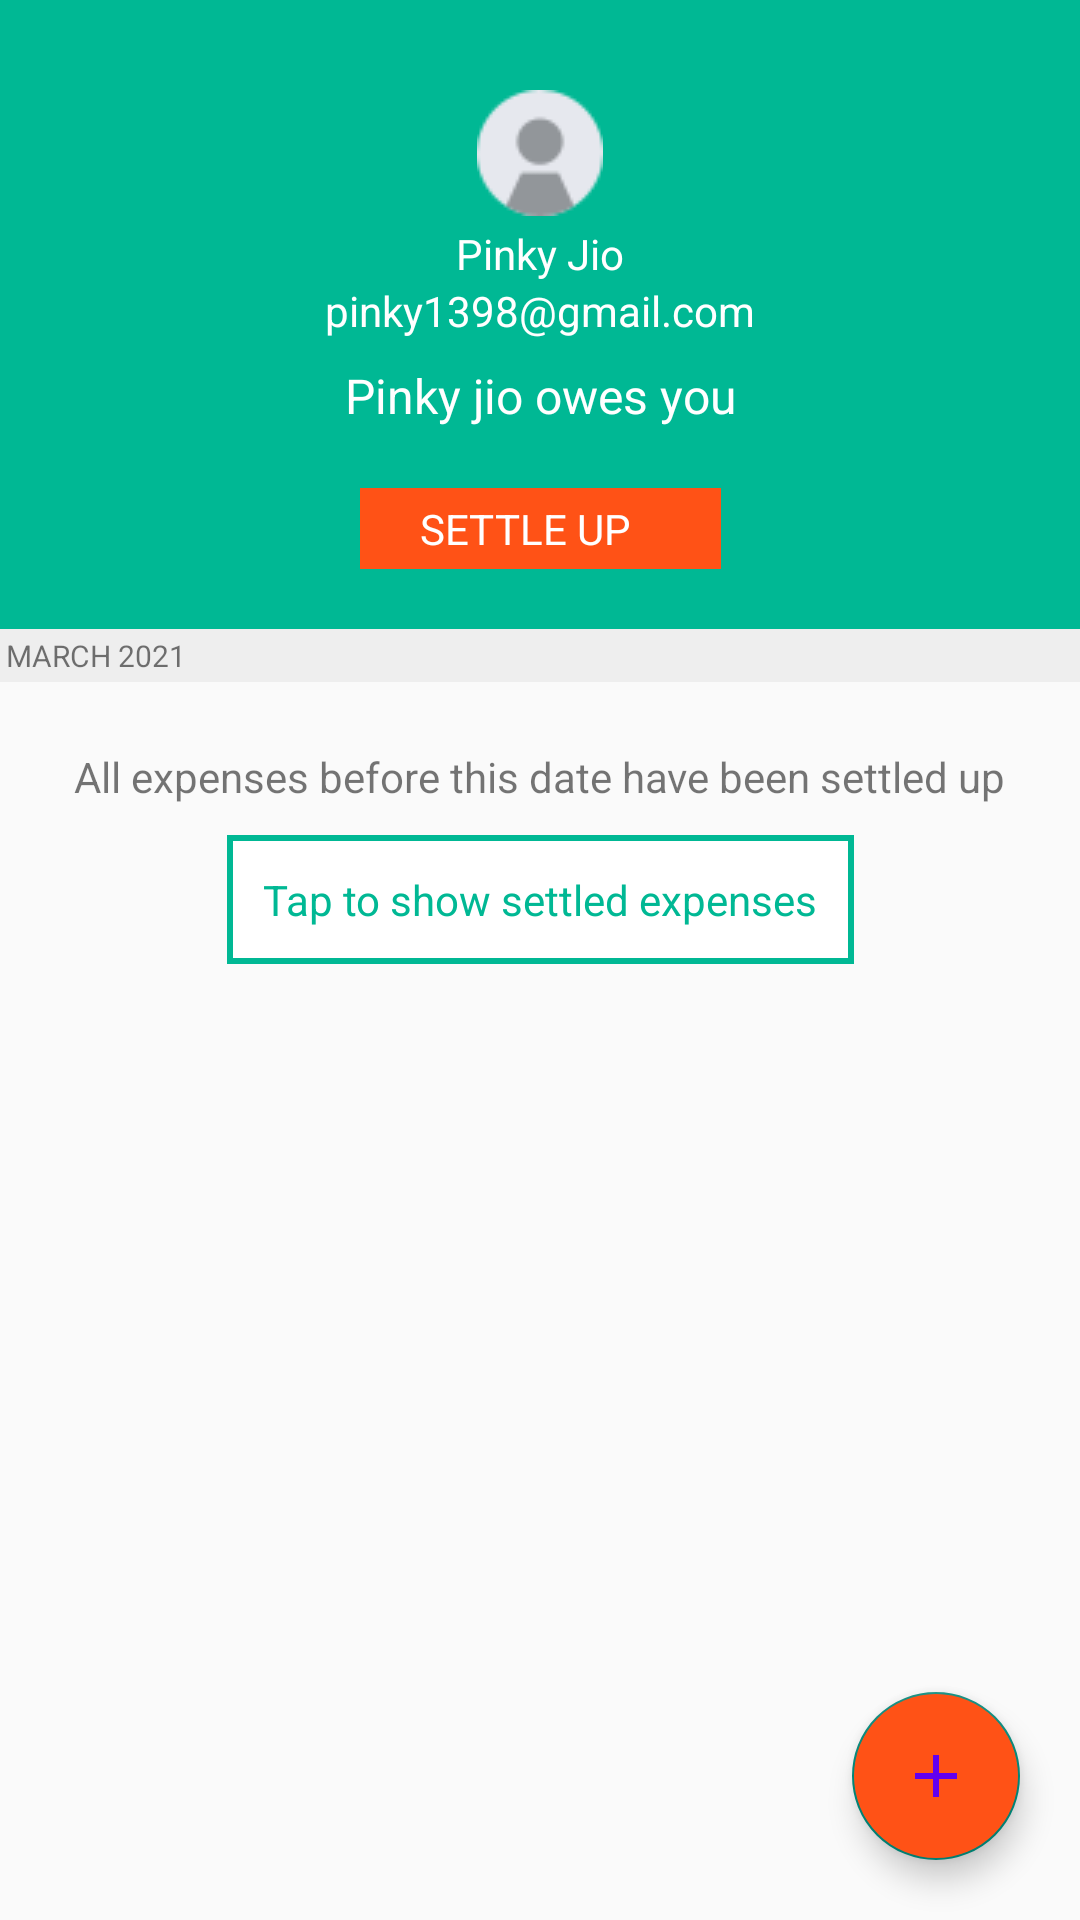

Icon click points for this 1080×1920 phone screenshot, format [x,y]:
contact: [540,153]
plus: [936,1776]
